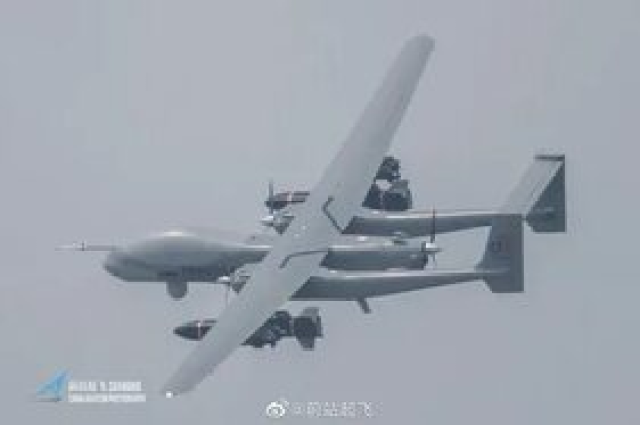military drone: (53, 34, 566, 397)
